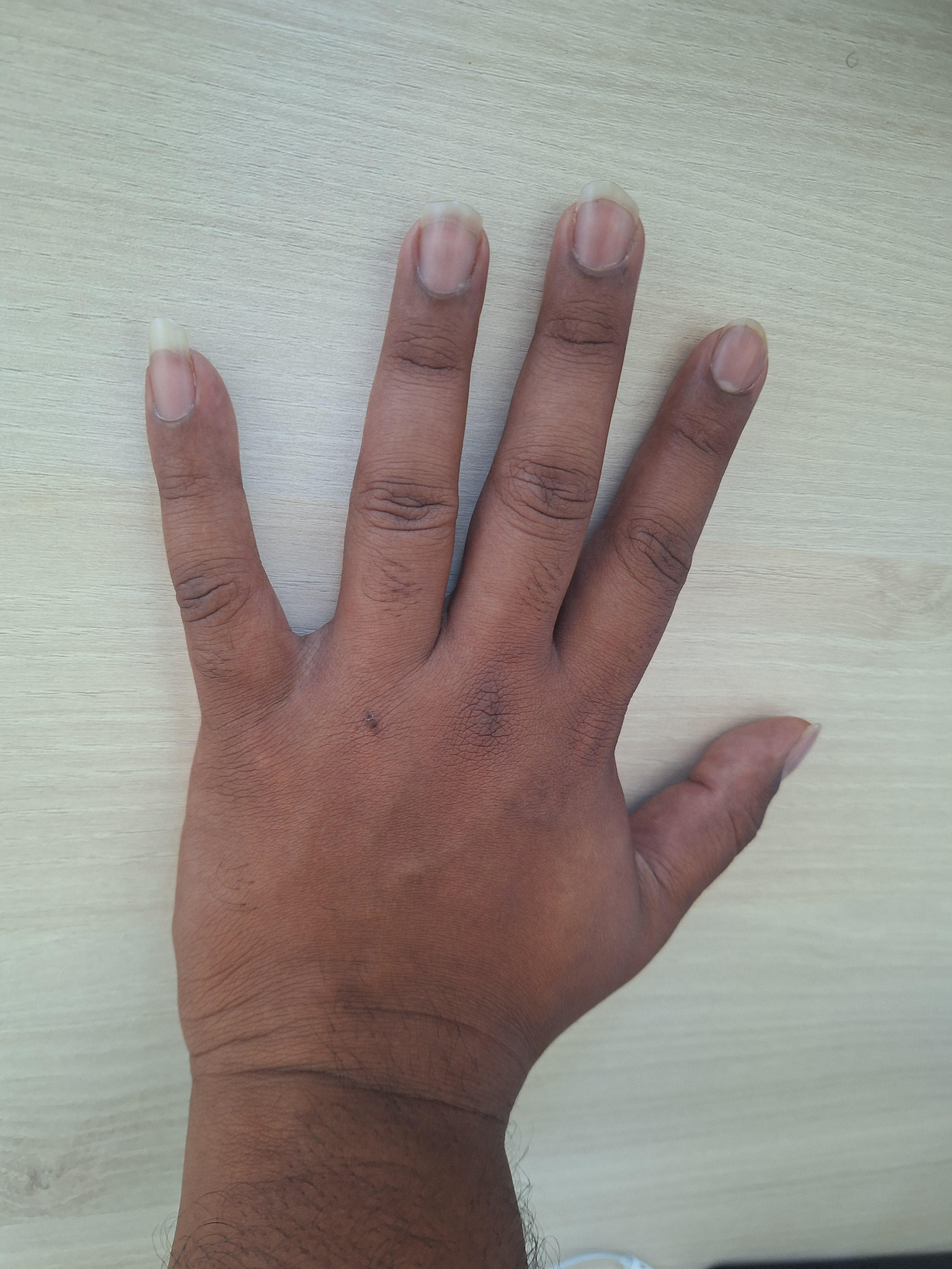Fingernail: (575, 180, 640, 271), (419, 201, 483, 293), (148, 318, 195, 421), (712, 318, 768, 393)
